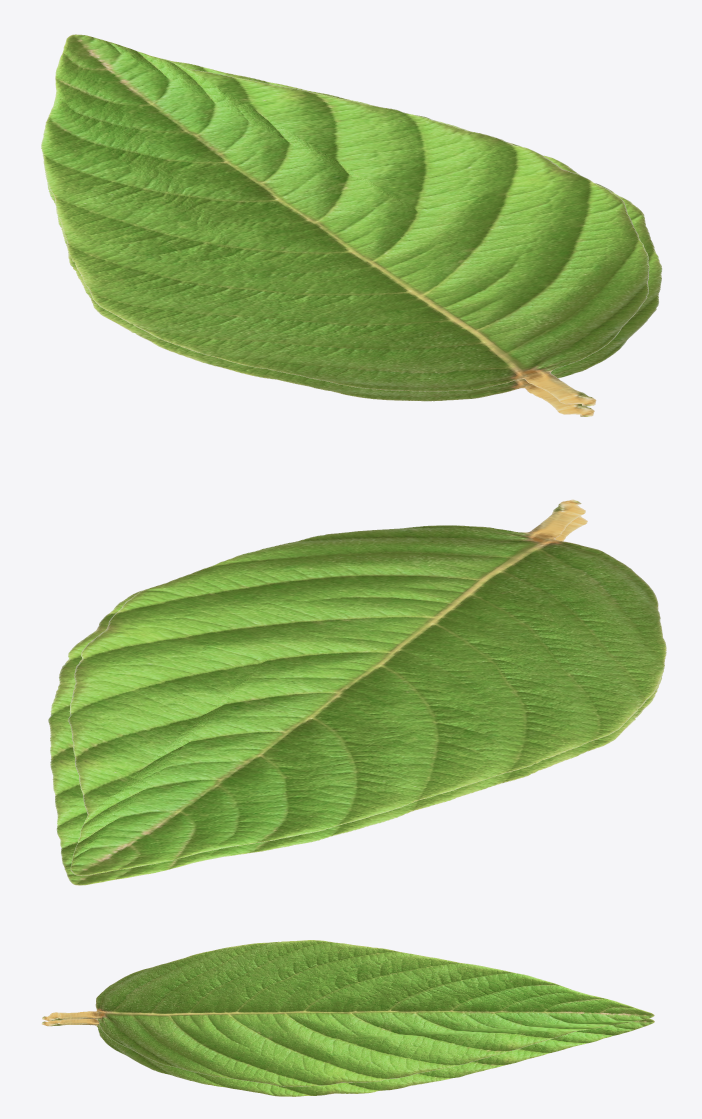
File: leaf.fbx
3 renders of one model, top to bottom at view 1: azimuth 30°, elevation 25°; view 2: azimuth 150°, elevation 25°; view 3: azimuth 270°, elevation 25°, orthographic. The views are drawn at different scales.
Parts seen in each view (by area): view 1: leaf1; view 2: leaf1; view 3: leaf1.
Part boxes in pixels (<box>): leaf1: <box>41,34,662,416</box>; leaf1: <box>48,499,666,885</box>; leaf1: <box>41,940,654,1096</box>.
Size of the model in its own units: 87.63 by 1.46 by 151.
1 material, 1 textured.
